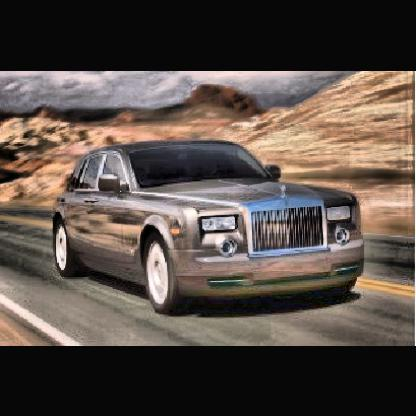Rolls-Royce Phantom Sedan 2012: (51, 139, 369, 320)
